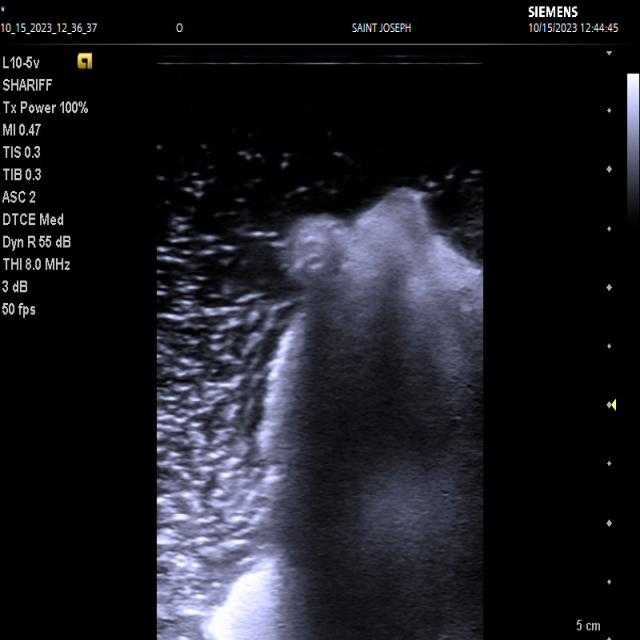tissue: (205, 189, 483, 640)
